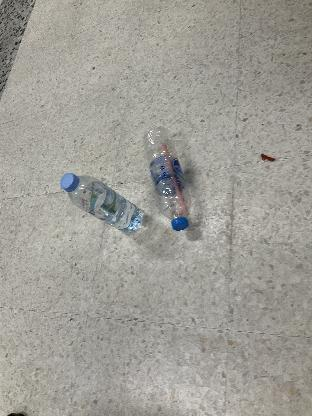Plastic Bottle: (144, 127, 194, 233), (61, 173, 141, 239)
